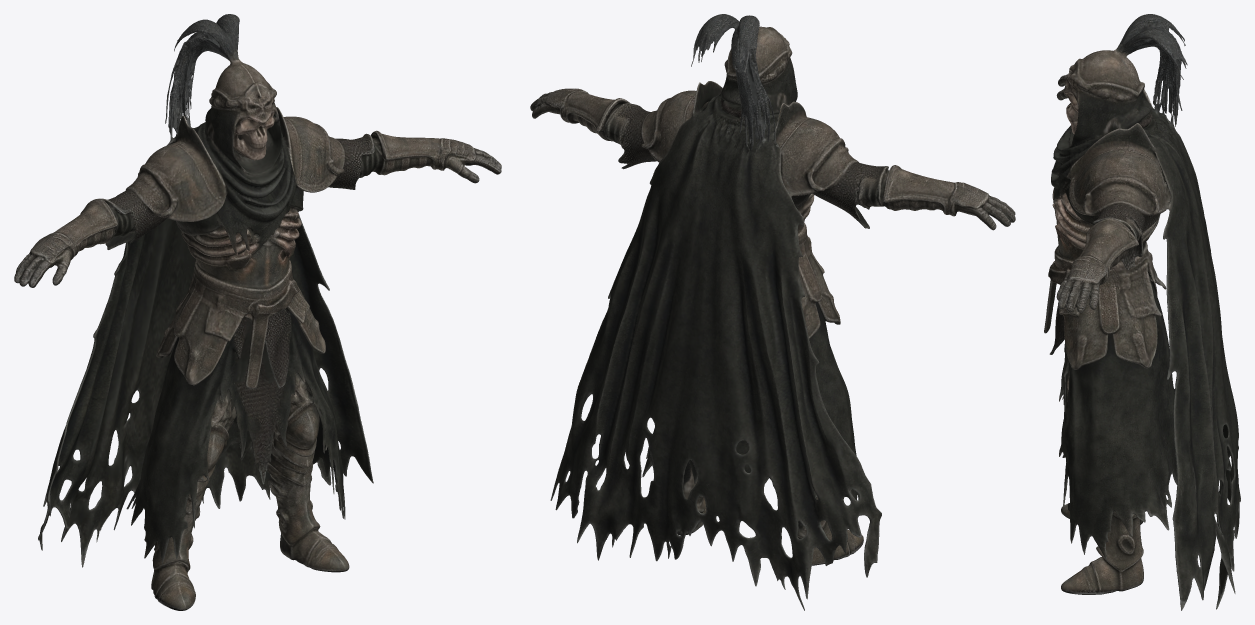
File: Meshy_AI_Grim_Warlord_20261027_texture.fbx
3 renders of one model, left to right at view 1: azimuth 30°, elevation 25°; view 2: azimuth 150°, elevation 25°; view 3: azimuth 270°, elevation 25°, orthographic.
Parts seen in each view (by area): view 1: Mesh_0; view 2: Mesh_0; view 3: Mesh_0.
Boxes of the visible parts, bbox=[...] form: Mesh_0: bbox=[14, 14, 501, 610]; Mesh_0: bbox=[530, 14, 1015, 610]; Mesh_0: bbox=[1044, 14, 1240, 610].
Size of the model in its own units: 174 by 190 by 62.88.
1 material, 1 textured.
